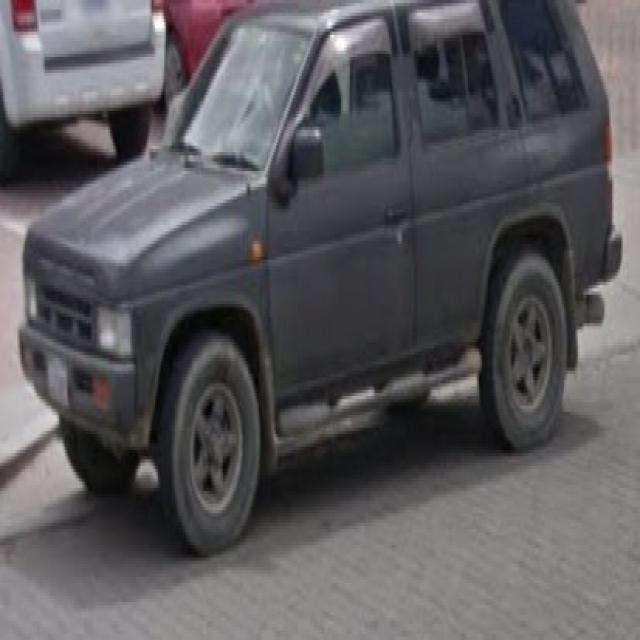Car: (20, 5, 626, 560)
